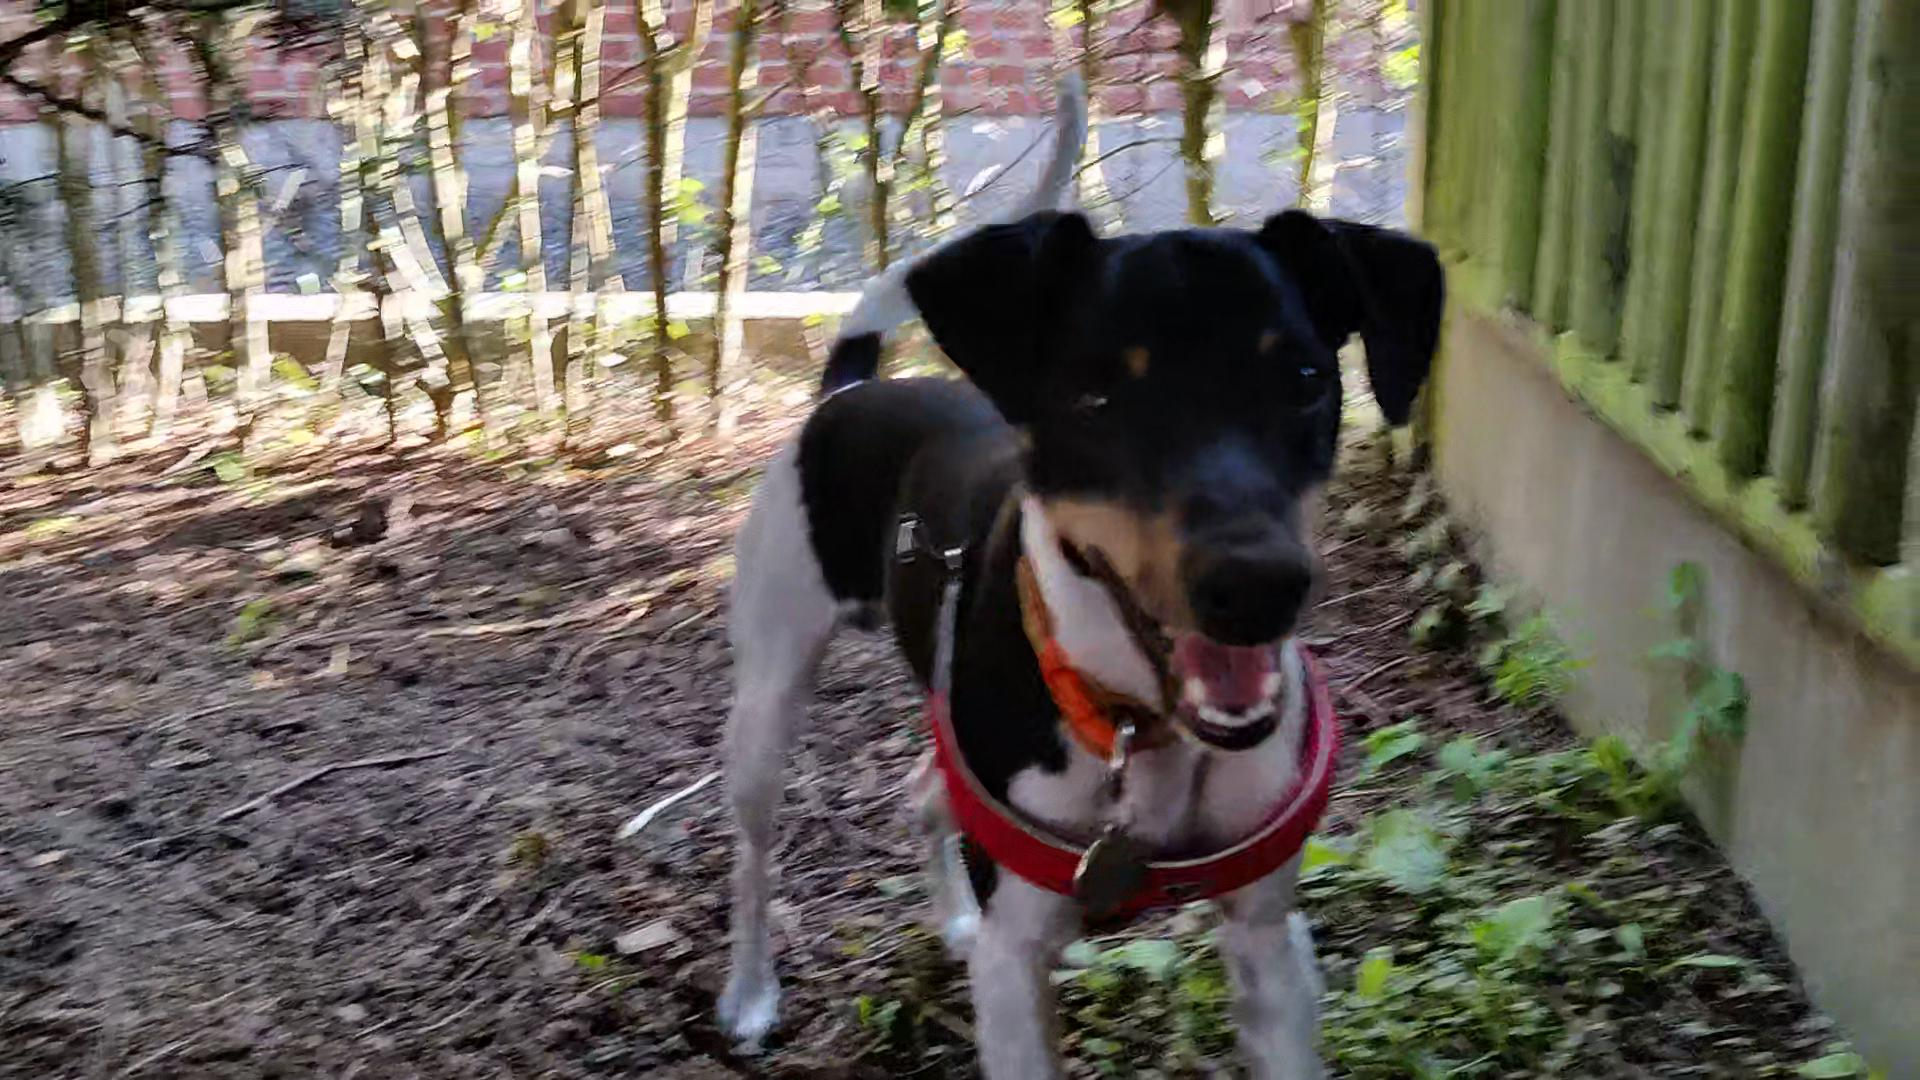Dog: (655, 51, 1480, 1079)
